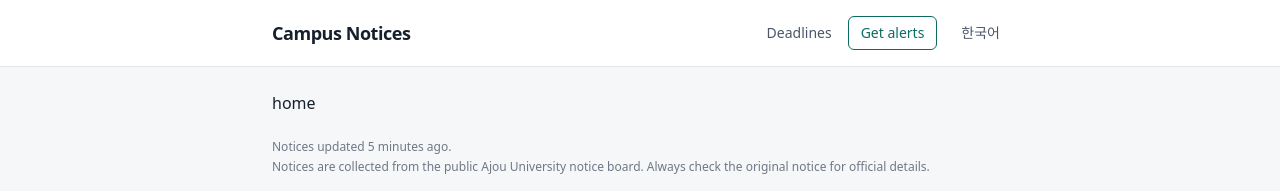
Test: language switch › switches the interface to Korean and remembers it
Expected: the link "Get alerts" is shown, [848, 16, 937, 50]
Expected: the text "Notices updated 5 minutes ago." is shown, [272, 138, 451, 155]
Click the button with aria-label "Switch language".
click(981, 33)  # box [953, 19, 1008, 47]
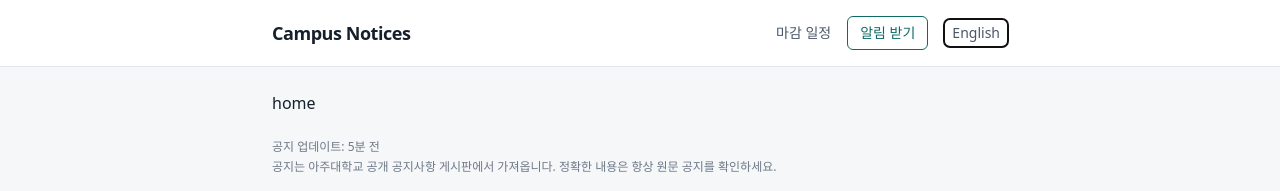
Now the link "알림 받기" is shown, box [847, 16, 928, 50]
Now the button with aria-label "언어 바꾸기" reads "English", box [944, 19, 1008, 47]
Now the text "공지 업데이트: 5분 전" is shown, box [272, 138, 380, 155]
